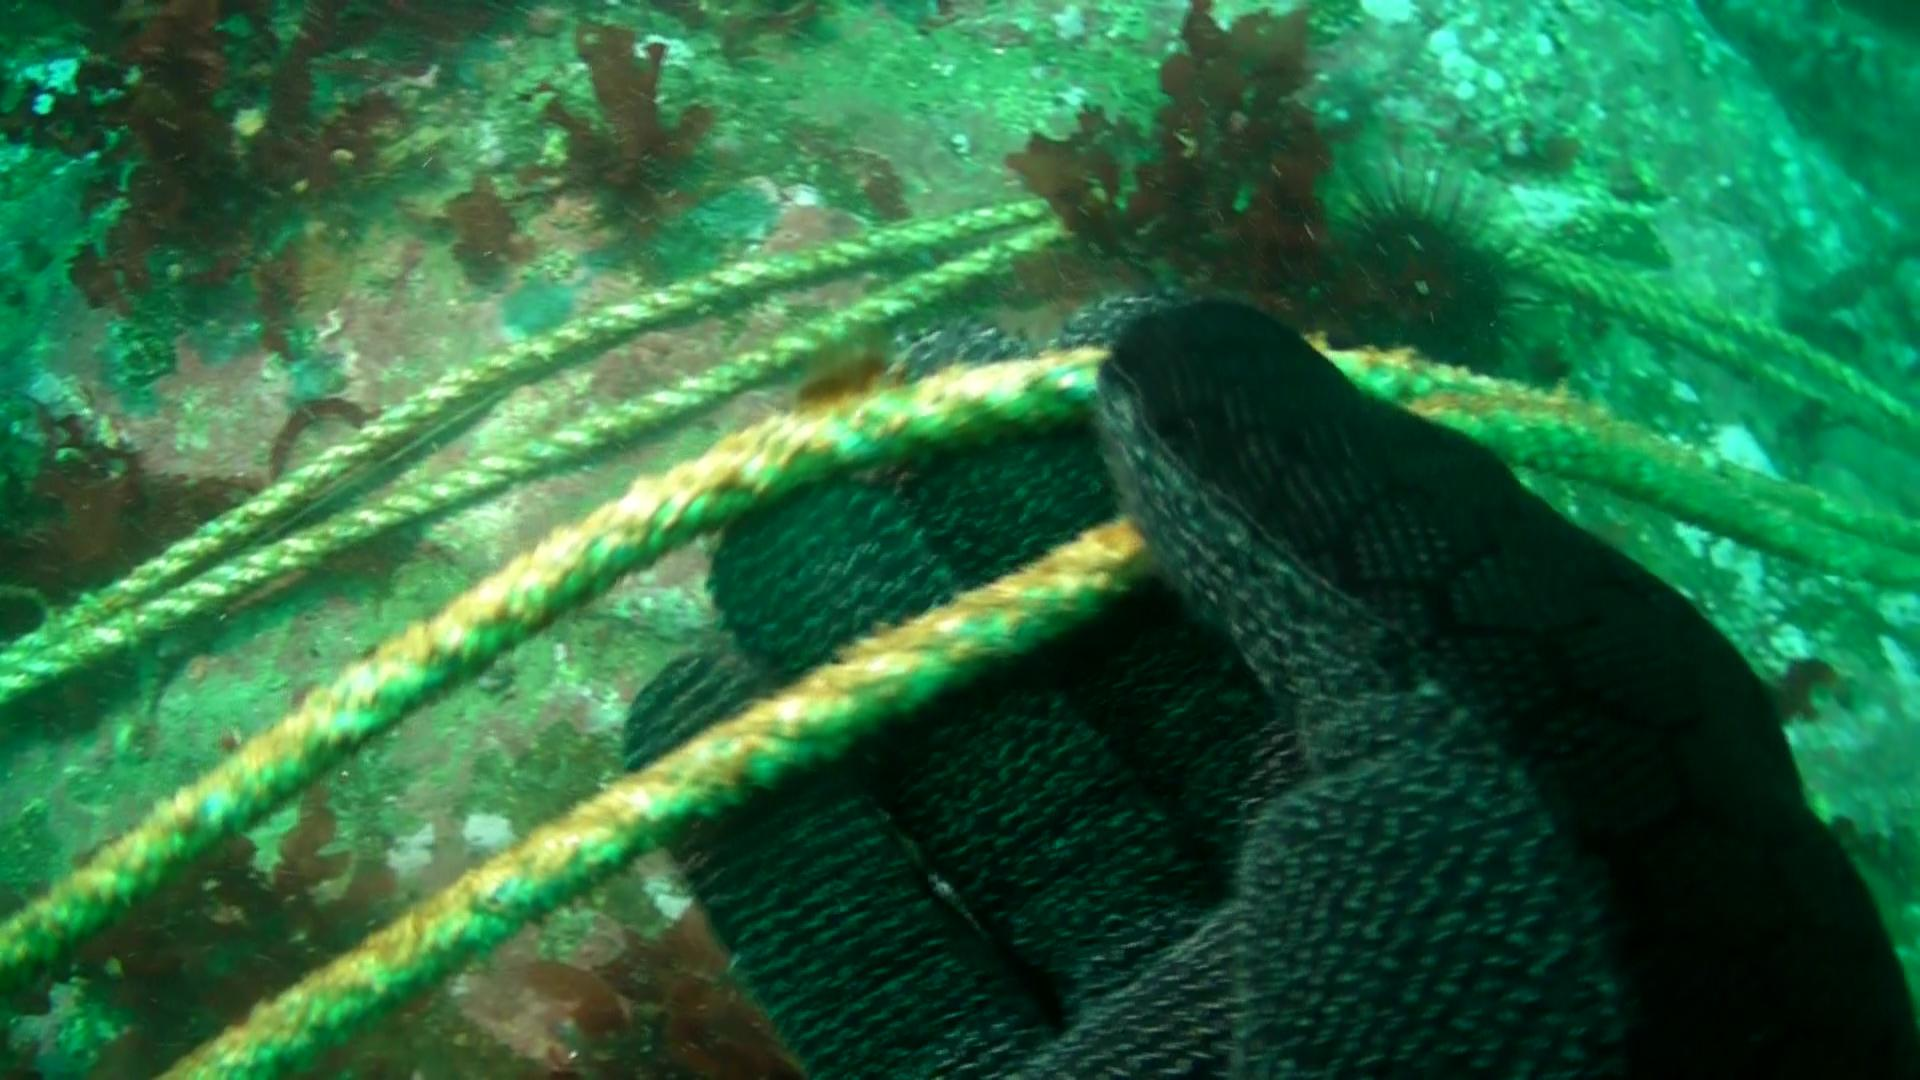bundle of ropes: (0, 335, 1168, 1080), (0, 181, 1085, 712), (1319, 222, 1920, 596)
